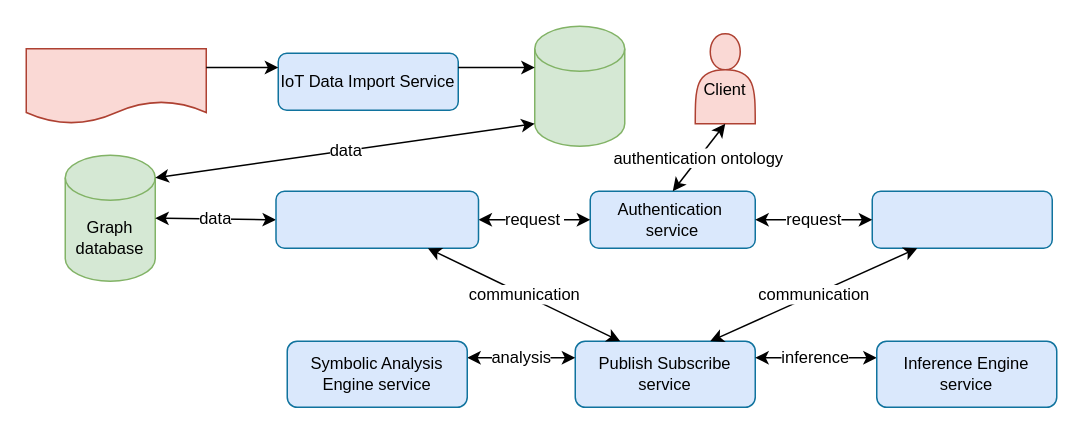
Some shapes in this 1083 by 434 pixel diagram are drawn without their labels. Each missing label, with the centre of its shape:
Measurement Sequence service: point 376,219
RDF Graph service: point 961,219
Static IoT database: point 579,85
Time series observations: point 115,85
